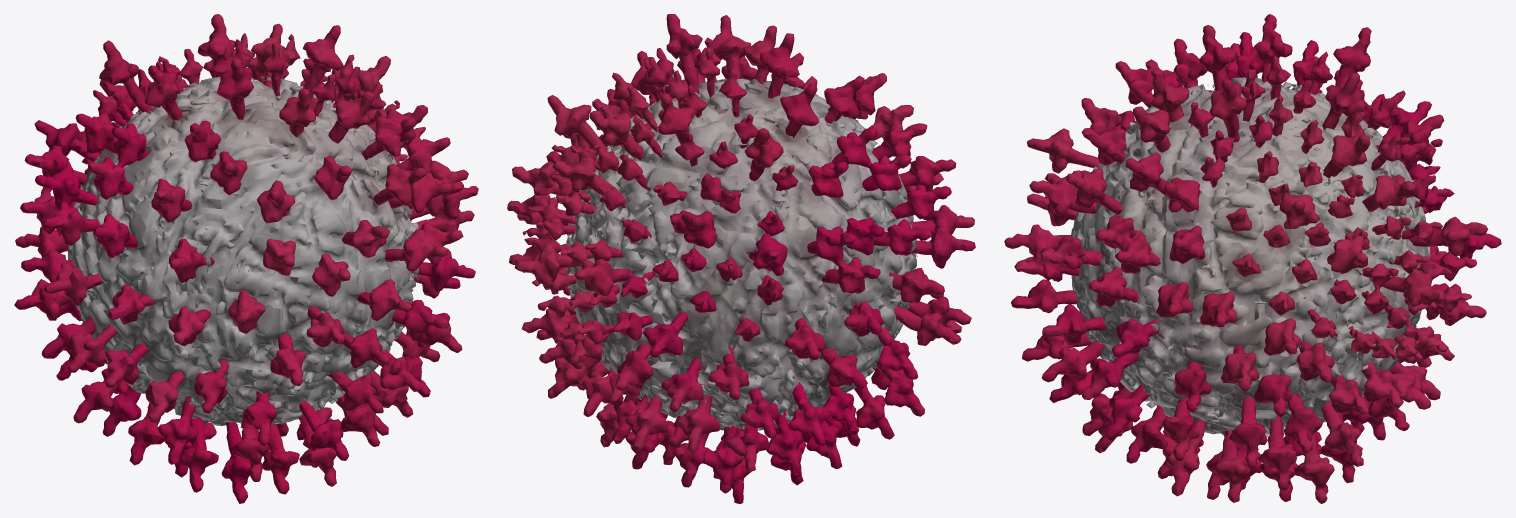
Rendered from corona.glb.
The picture shows the model from 3 angles, left to right: view 1: azimuth 30°, elevation 25°; view 2: azimuth 150°, elevation 25°; view 3: azimuth 270°, elevation 25°; orthographic projection. The views are drawn at different scales.
Parts seen in each view (by area): view 1: Mesh_1003, Mesh_0003; view 2: Mesh_1003, Mesh_0003; view 3: Mesh_1003, Mesh_0003.
Part boxes in pixels (bbox=[...]): Mesh_1003: bbox=[14, 14, 478, 503]; Mesh_0003: bbox=[67, 76, 419, 427]; Mesh_1003: bbox=[507, 14, 975, 503]; Mesh_0003: bbox=[566, 78, 917, 430]; Mesh_1003: bbox=[1004, 14, 1501, 503]; Mesh_0003: bbox=[1071, 77, 1430, 436].
Bounding box in the file's own units: 59.81 × 58.54 × 58.94.
